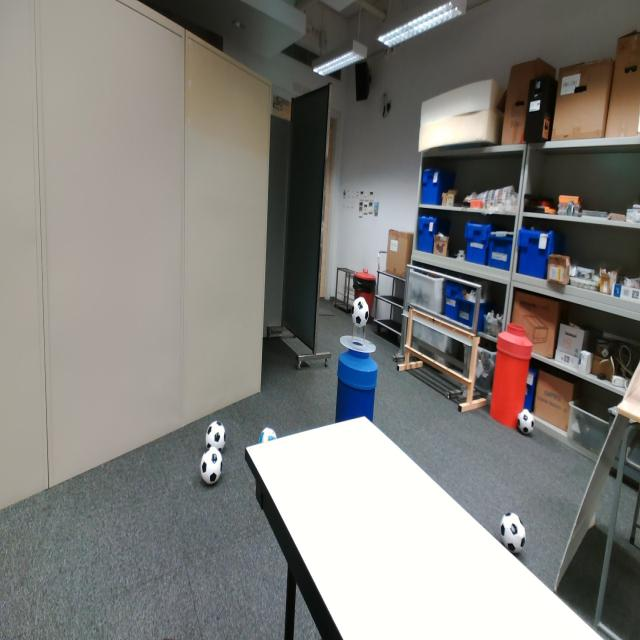ball: (500, 511, 527, 557), (199, 446, 224, 486), (205, 420, 227, 455), (350, 296, 370, 329), (517, 407, 536, 437), (258, 424, 278, 445)
